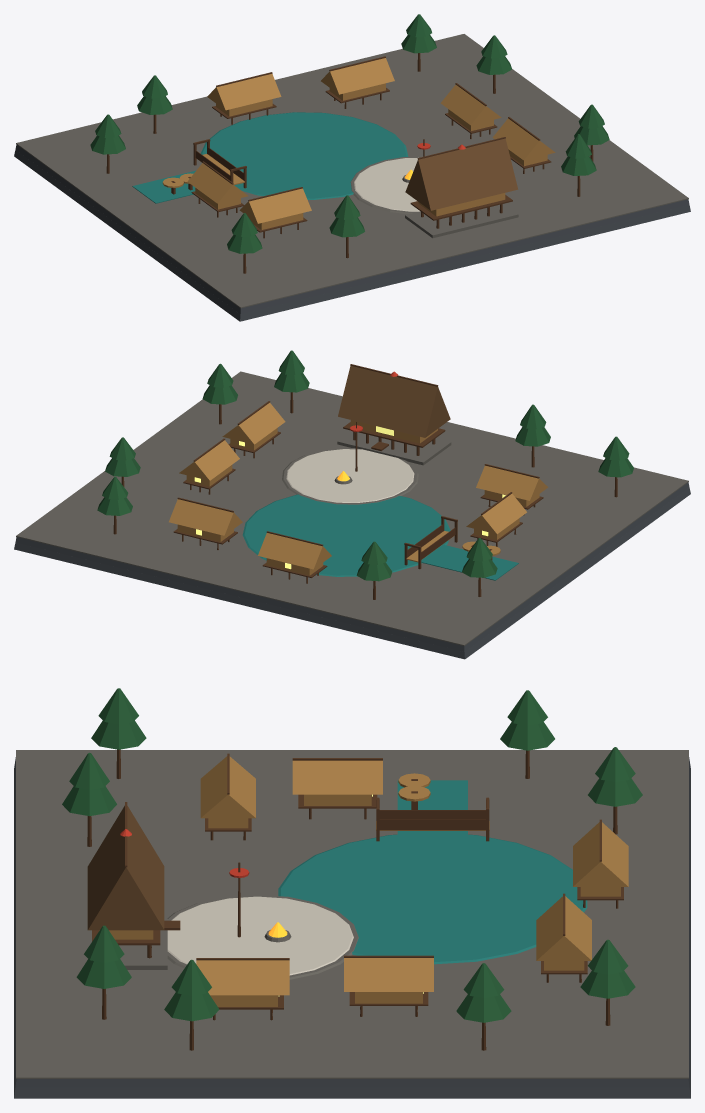
File: lm_21_lang_cu_lan.glb
3 views of the same model, one above another, from view 1: azimuth 30°, elevation 25°; view 2: azimuth 150°, elevation 25°; view 3: azimuth 270°, elevation 25° (orthographic). The views are drawn at different scales.
Visible parts, largest first — view 1: Foundation_Plinth_Trim, CuLan_Emerald_Stream_Lake, Foundation_Skirt, CuLan_Surrounding_Pine_Forest, KHo_Communal_Rong_Towering_Roof, KHo_Ironwood_Stilts_And_Beams, KHo_Woven_Bamboo_Walls_And_Roofs, CuLan_Gong_Festival_Circle, CuLan_River_Stone_Banks, CuLan_KHo_Stilt_House_Roof_6, CuLan_KHo_Stilt_House_Roof_5, CuLan_KHo_Stilt_House_Roof_1 (+3 smaller); view 2: Foundation_Plinth_Trim, CuLan_Emerald_Stream_Lake, Foundation_Skirt, CuLan_Surrounding_Pine_Forest, KHo_Communal_Rong_Towering_Roof, CuLan_Gong_Festival_Circle, KHo_Ironwood_Stilts_And_Beams, KHo_Woven_Bamboo_Walls_And_Roofs, CuLan_River_Stone_Banks, CuLan_KHo_Stilt_House_Roof_5, CuLan_KHo_Stilt_House_Roof_6, CuLan_KHo_Stilt_House_Roof_1 (+3 smaller); view 3: Foundation_Plinth_Trim, CuLan_Emerald_Stream_Lake, CuLan_Surrounding_Pine_Forest, Foundation_Skirt, CuLan_Gong_Festival_Circle, KHo_Communal_Rong_Towering_Roof, KHo_Ironwood_Stilts_And_Beams, KHo_Woven_Bamboo_Walls_And_Roofs, CuLan_KHo_Stilt_House_Roof_2, CuLan_KHo_Stilt_House_Roof_3, CuLan_KHo_Stilt_House_Roof_4, CuLan_River_Stone_Banks (+3 smaller).
Boxes of the visible parts, <box> form: Foundation_Plinth_Trim: <box>16,34,688,308</box>; CuLan_Emerald_Stream_Lake: <box>132,112,408,203</box>; Foundation_Skirt: <box>14,144,690,321</box>; CuLan_Surrounding_Pine_Forest: <box>90,14,609,253</box>; KHo_Communal_Rong_Towering_Roof: <box>405,138,518,210</box>; KHo_Ironwood_Stilts_And_Beams: <box>106,53,593,273</box>; KHo_Woven_Bamboo_Walls_And_Roofs: <box>162,83,547,229</box>; CuLan_Gong_Festival_Circle: <box>354,157,419,211</box>; CuLan_River_Stone_Banks: <box>350,156,518,238</box>; CuLan_KHo_Stilt_House_Roof_6: <box>207,74,281,110</box>; CuLan_KHo_Stilt_House_Roof_5: <box>321,58,394,94</box>; CuLan_KHo_Stilt_House_Roof_1: <box>239,188,311,223</box>; Foundation_Plinth_Trim: <box>16,371,688,645</box>; CuLan_Emerald_Stream_Lake: <box>242,494,518,580</box>; Foundation_Skirt: <box>14,482,690,659</box>; CuLan_Surrounding_Pine_Forest: <box>97,350,633,581</box>; KHo_Communal_Rong_Towering_Roof: <box>338,365,450,437</box>; CuLan_Gong_Festival_Circle: <box>286,449,414,502</box>; KHo_Ironwood_Stilts_And_Beams: <box>113,392,617,599</box>; KHo_Woven_Bamboo_Walls_And_Roofs: <box>177,420,539,575</box>; CuLan_River_Stone_Banks: <box>282,431,451,504</box>; CuLan_KHo_Stilt_House_Roof_5: <box>169,499,242,535</box>; CuLan_KHo_Stilt_House_Roof_6: <box>258,533,331,569</box>; CuLan_KHo_Stilt_House_Roof_1: <box>476,465,548,500</box>; Foundation_Plinth_Trim: <box>16,750,688,1078</box>; CuLan_Emerald_Stream_Lake: <box>278,780,587,964</box>; CuLan_Surrounding_Pine_Forest: <box>62,688,642,1022</box>; Foundation_Skirt: <box>14,757,690,1098</box>; CuLan_Gong_Festival_Circle: <box>167,896,353,975</box>; KHo_Communal_Rong_Towering_Roof: <box>87,805,164,930</box>; KHo_Ironwood_Stilts_And_Beams: <box>87,749,623,1050</box>; KHo_Woven_Bamboo_Walls_And_Roofs: <box>99,773,620,1006</box>; CuLan_KHo_Stilt_House_Roof_2: <box>292,760,382,794</box>; CuLan_KHo_Stilt_House_Roof_3: <box>196,960,289,995</box>; CuLan_KHo_Stilt_House_Roof_4: <box>344,958,433,991</box>; CuLan_River_Stone_Banks: <box>84,894,358,979</box>.
Bounding box in the file's own units: 107 × 19.5 × 92.72.
